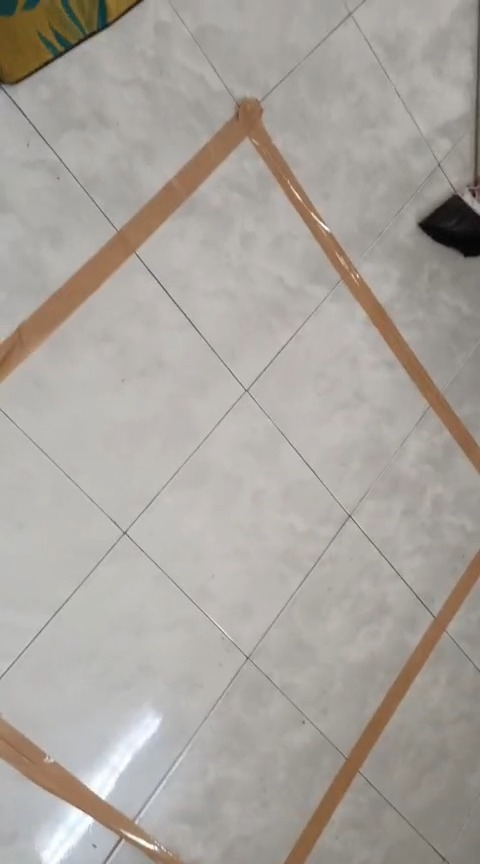floor marking: (0, 100, 479, 471), (284, 550, 479, 863), (0, 717, 183, 863)
